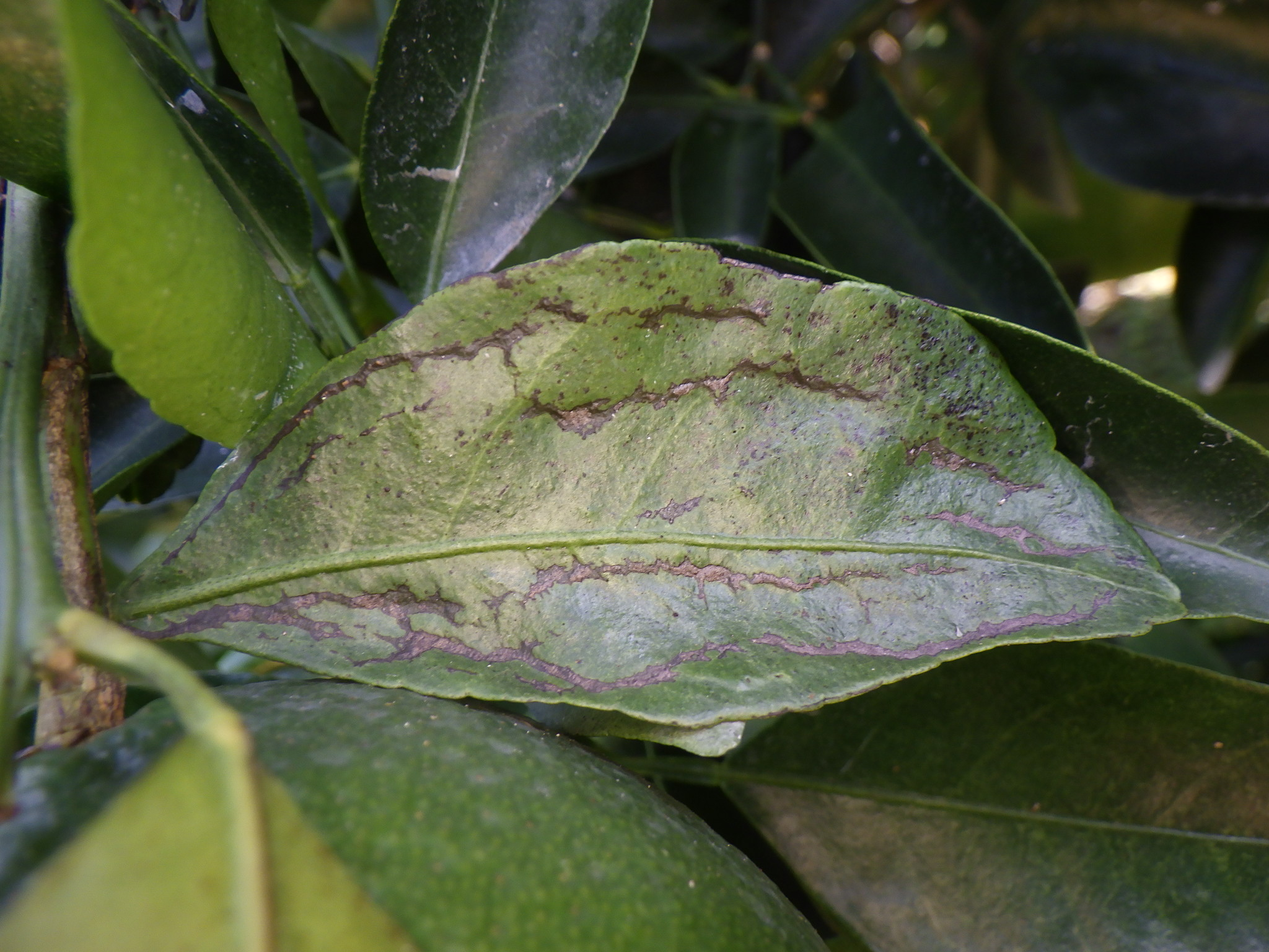Thrips_Damage: (130, 293, 1117, 697)
